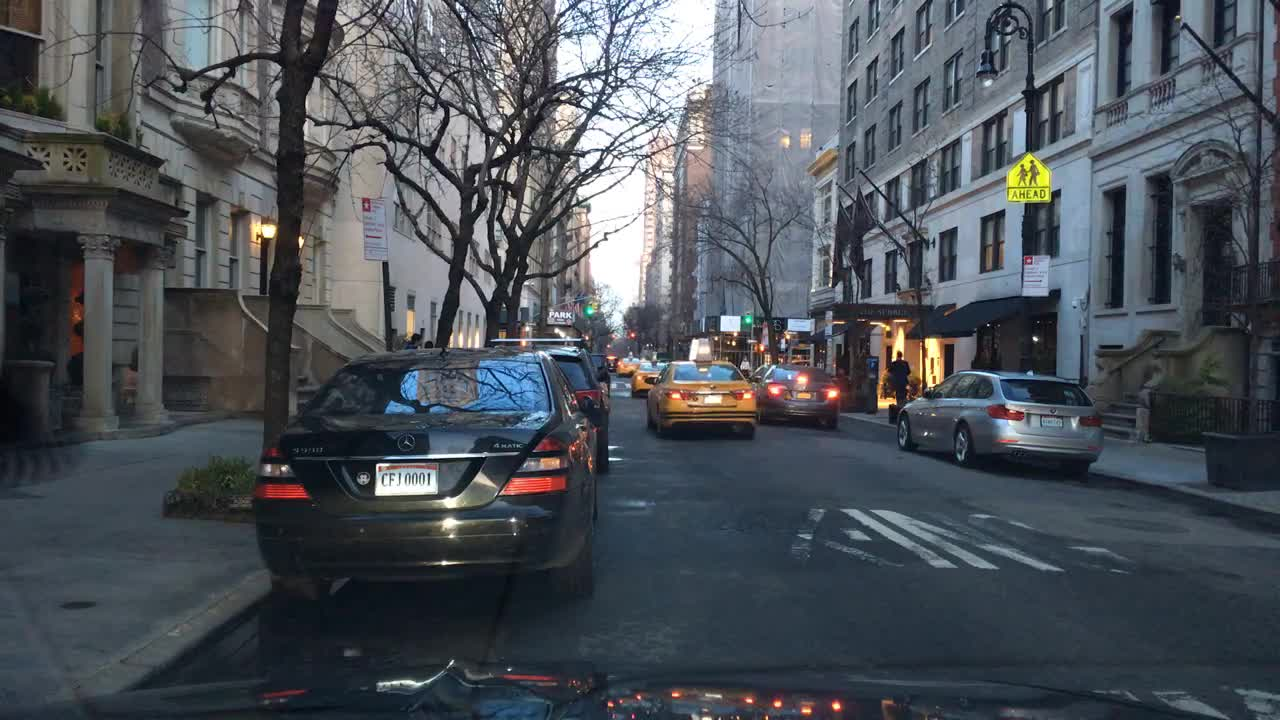bus: (606, 355, 617, 371)
car: (254, 346, 596, 605), (895, 369, 1105, 466), (486, 336, 611, 471), (646, 336, 757, 436), (757, 364, 840, 426), (632, 348, 665, 396), (588, 354, 607, 386), (617, 351, 640, 376), (746, 366, 769, 386)
person: (889, 351, 909, 405), (405, 333, 421, 349), (739, 356, 749, 371), (425, 339, 431, 350)
traffic light: (593, 301, 600, 316), (586, 300, 592, 316), (746, 310, 751, 326)
traffic sign: (1006, 153, 1050, 202)
